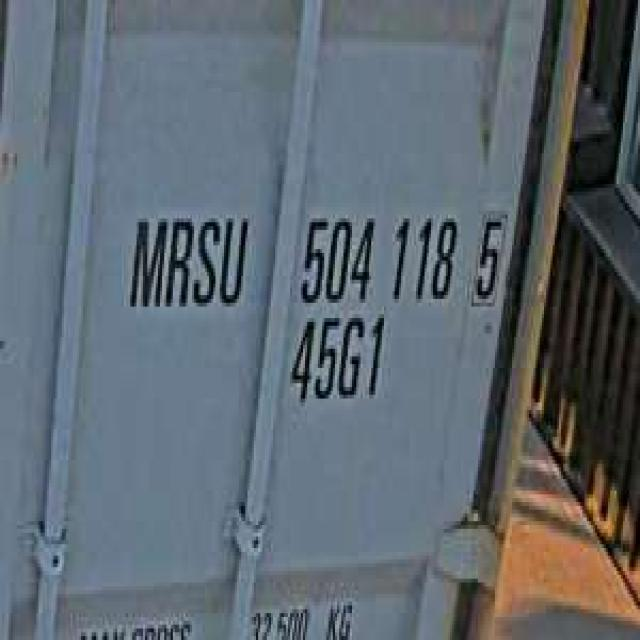dv: (469, 196, 508, 314)
owner: (119, 195, 252, 322)
serial: (294, 200, 459, 310)
size: (284, 306, 390, 414)
